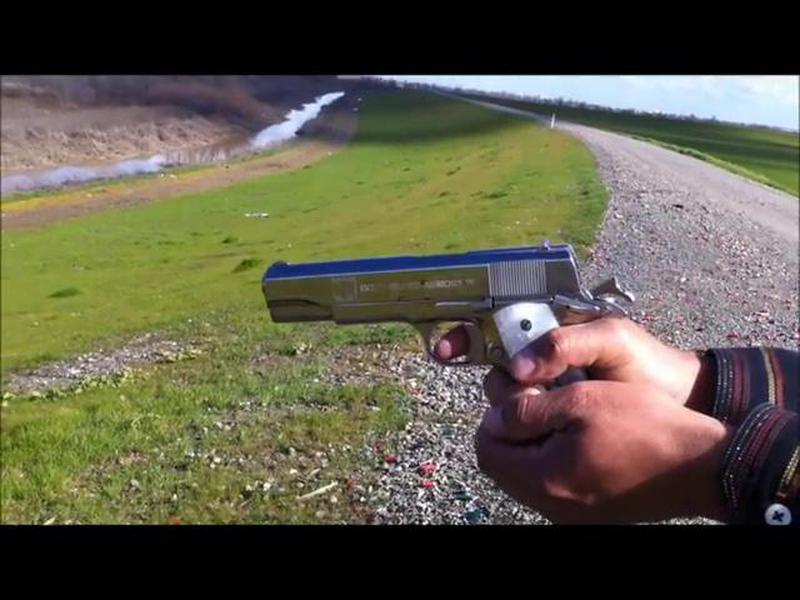Pistola: (236, 214, 627, 426)
